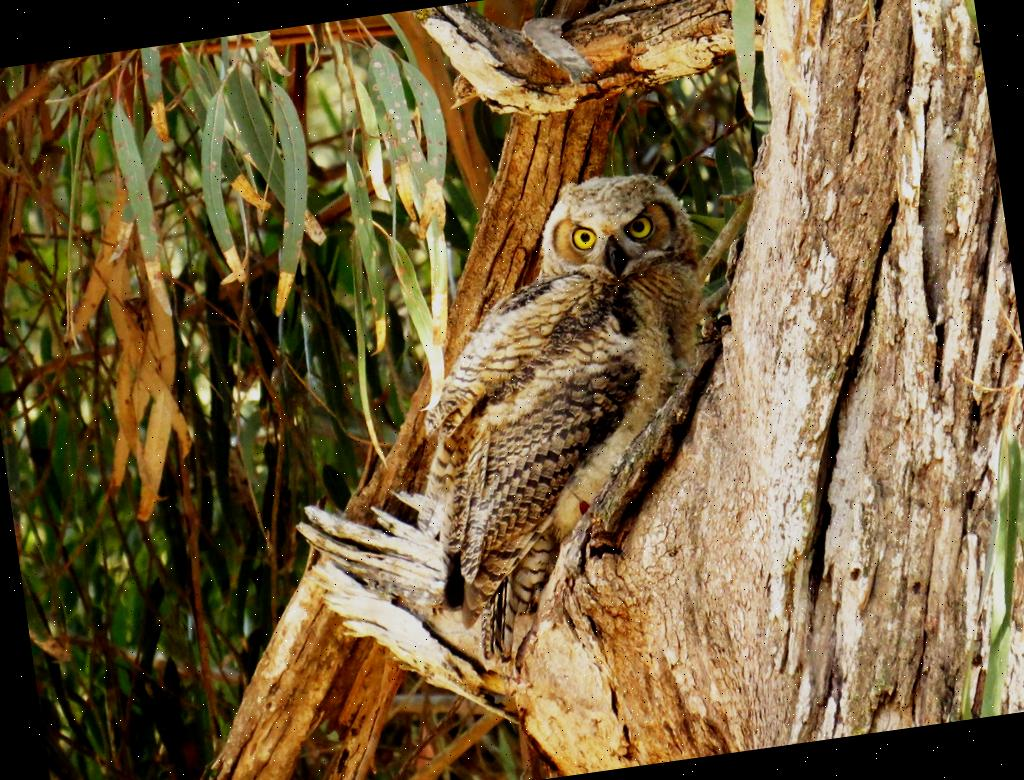Owl: (372, 162, 756, 673)
